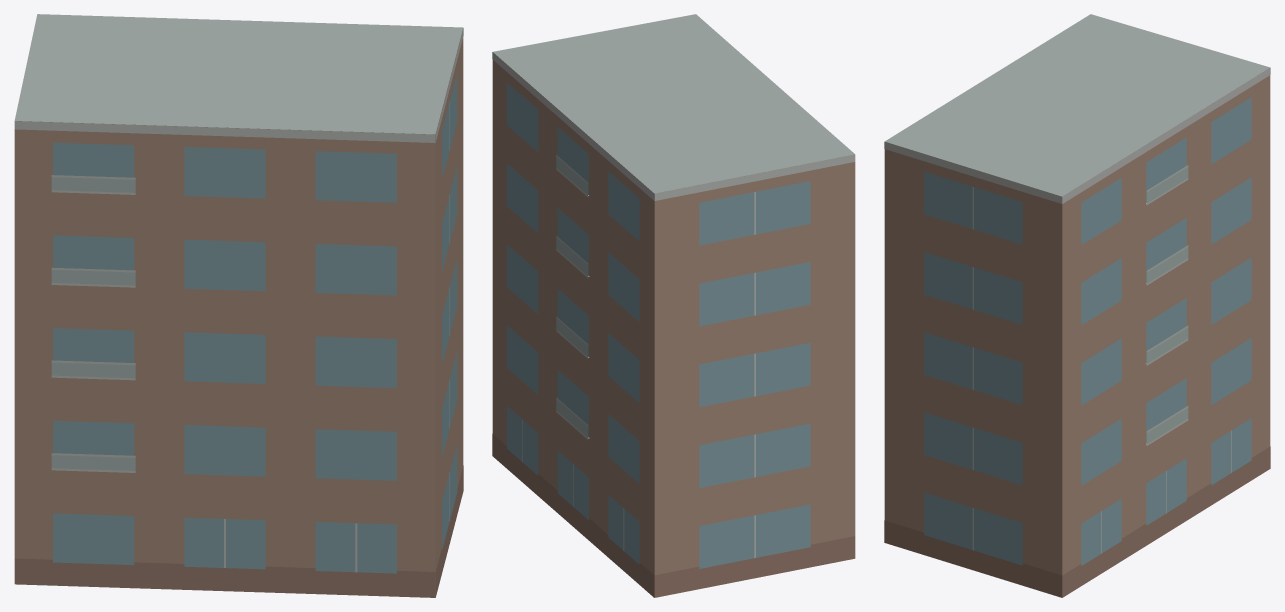
The model's file is survey-upis-32780099.glb.
The picture shows the model from 3 angles, left to right: view 1: azimuth 30°, elevation 25°; view 2: azimuth 150°, elevation 25°; view 3: azimuth 270°, elevation 25°; orthographic projection. The views are drawn at different scales.
Visible parts, largest first — view 1: survey-upis-32780099.tmp; view 2: survey-upis-32780099.tmp; view 3: survey-upis-32780099.tmp.
Part boxes in pixels (box(x1,y1,x2,y2)): survey-upis-32780099.tmp: box(14, 14, 463, 597); survey-upis-32780099.tmp: box(492, 14, 855, 597); survey-upis-32780099.tmp: box(884, 14, 1270, 597).
Bounding box in the file's own units: 12.9 × 13.2 × 11.52.
